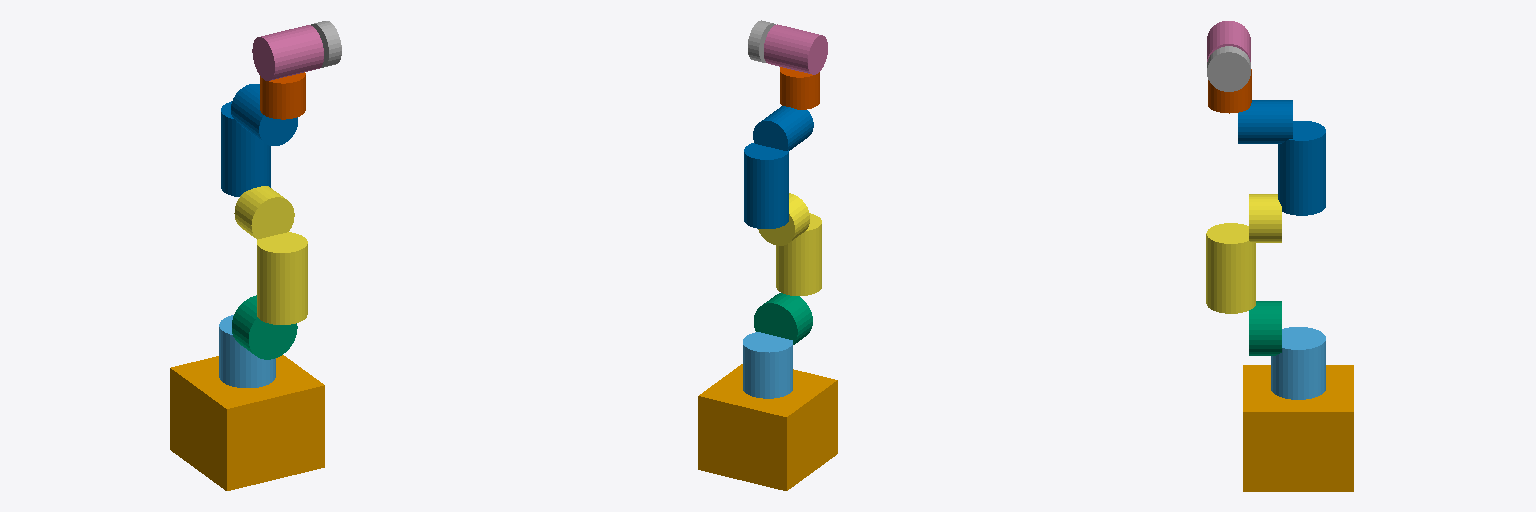
The robot description file, URDF, robot "[local-path]/webots_ros2/src/my_package/resource/MyCobot280Pi.ur":
<?xml version="1.0"?>
<robot name="[local-path]/webots_ros2/src/my_package/resource/MyCobot280Pi.urdf" xmlns:xacro="http://ros.org/wiki/xacro">
  <link name="base_link">
    <visual>
      <origin xyz="0 0 -0.01" rpy="0 0 0"/>
      <geometry>
        <box size="0.1 0.1 0.08"/>
      </geometry>
    </visual>
    <collision>
      <origin xyz="0 0 -0.01" rpy="0 0 0"/>
      <geometry>
        <box size="0.1 0.1 0.08"/>
      </geometry>
    </collision>
  </link>
  <link name="base">
    <visual>
      <origin xyz="0 0 0.105" rpy="0 0 0"/>
      <geometry>
        <cylinder radius="0.025" length="0.05"/>
      </geometry>
    </visual>
    <collision>
      <origin xyz="0 0 0.105" rpy="0 0 0"/>
      <geometry>
        <cylinder radius="0.025" length="0.05"/>
      </geometry>
    </collision>
  </link>
  <joint name="base_link_base_joint" type="fixed">
    <parent link="base_link"/>
    <child link="base"/>
    <origin xyz="0 0 -0.05" rpy="0 0 0"/>
  </joint>
  <joint name="joint0_rotational_motor" type="revolute">
    <parent link="base"/>
    <child link="joint0"/>
    <axis xyz="-0.000001 -0.000002 1"/>
    <limit effort="1000" lower="-2.93217" upper="2.93217" velocity="10"/>
    <origin xyz="0 0 0.08" rpy="-0.000002 0.000001 -1.570802"/>
  </joint>
  <link name="joint0">
    <visual>
      <origin xyz="0.030001 0 0.059979" rpy="3.141593 1.570793 3.141593"/>
      <geometry>
        <cylinder radius="0.025" length="0.03"/>
      </geometry>
    </visual>
    <collision>
      <origin xyz="0.030001 0 0.059979" rpy="3.141593 1.570793 3.141593"/>
      <geometry>
        <cylinder radius="0.025" length="0.03"/>
      </geometry>
    </collision>
  </link>
  <joint name="joint1_rotational_motor" type="revolute">
    <parent link="joint0"/>
    <child link="join1"/>
    <axis xyz="1 0 0"/>
    <limit effort="1000" lower="-2.35619" upper="2.35619" velocity="10"/>
    <origin xyz="0.03 0 0.059979" rpy="0 0 0"/>
  </joint>
  <link name="join1">
    <visual>
      <origin xyz="0.031 0 0.06" rpy="0 0 0"/>
      <geometry>
        <cylinder radius="0.0225" length="0.07"/>
      </geometry>
    </visual>
    <collision>
      <origin xyz="0.031 0 0.06" rpy="0 0 0"/>
      <geometry>
        <cylinder radius="0.0225" length="0.07"/>
      </geometry>
    </collision>
    <visual>
      <origin xyz="0 0 0.11" rpy="-1.570799 -0.000002 -1.570792"/>
      <geometry>
        <cylinder radius="0.022" length="0.03"/>
      </geometry>
    </visual>
    <collision>
      <origin xyz="0 0 0.11" rpy="-1.570799 -0.000002 -1.570792"/>
      <geometry>
        <cylinder radius="0.022" length="0.03"/>
      </geometry>
    </collision>
  </link>
  <joint name="joint2_rotational_motor" type="revolute">
    <parent link="join1"/>
    <child link="joint2"/>
    <axis xyz="1 0 0"/>
    <limit effort="1000" lower="-2.61799" upper="2.61799" velocity="10"/>
    <origin xyz="0 0 0.1104" rpy="0 0 0"/>
  </joint>
  <link name="joint2">
    <visual>
      <origin xyz="-0.033 0 0.05" rpy="0 0 0.2618"/>
      <geometry>
        <cylinder radius="0.022" length="0.075"/>
      </geometry>
    </visual>
    <collision>
      <origin xyz="-0.033 0 0.05" rpy="0 0 0.2618"/>
      <geometry>
        <cylinder radius="0.022" length="0.075"/>
      </geometry>
    </collision>
    <visual>
      <origin xyz="0 0 0.096" rpy="0 -1.570795 0"/>
      <geometry>
        <cylinder radius="0.02" length="0.05"/>
      </geometry>
    </visual>
    <collision>
      <origin xyz="0 0 0.096" rpy="0 -1.570795 0"/>
      <geometry>
        <cylinder radius="0.02" length="0.05"/>
      </geometry>
    </collision>
  </link>
  <joint name="joint3_rotational_motor" type="revolute">
    <parent link="joint2"/>
    <child link="joint3"/>
    <axis xyz="1 0.000021 -0.000006"/>
    <limit effort="1000" lower="-2.53073" upper="2.53073" velocity="10"/>
    <origin xyz="-0.0005 0 0.0966" rpy="0 -0.000006 -0.000021"/>
  </joint>
  <link name="joint3">
    <visual>
      <origin xyz="0.033001 -0.000019 0.034934" rpy="0 0 0"/>
      <geometry>
        <cylinder radius="0.02" length="0.035"/>
      </geometry>
    </visual>
    <collision>
      <origin xyz="0.033001 -0.000019 0.034934" rpy="0 0 0"/>
      <geometry>
        <cylinder radius="0.02" length="0.035"/>
      </geometry>
    </collision>
  </link>
  <joint name="joint4_rotational_motor" type="revolute">
    <parent link="joint3"/>
    <child link="joint4"/>
    <axis xyz="0 0 1"/>
    <limit effort="1000" lower="-2.87979" upper="2.87979" velocity="10"/>
    <origin xyz="0.033701 -0.000019 0.033934" rpy="0 0 0"/>
  </joint>
  <link name="joint4">
    <visual>
      <origin xyz="0 0.005 0.038" rpy="-1.570795 0 0"/>
      <geometry>
        <cylinder radius="0.02" length="0.05"/>
      </geometry>
    </visual>
    <collision>
      <origin xyz="0 0.005 0.038" rpy="-1.570795 0 0"/>
      <geometry>
        <cylinder radius="0.02" length="0.05"/>
      </geometry>
    </collision>
  </link>
  <joint name="joint5_rotational_motor" type="revolute">
    <parent link="joint4"/>
    <child link="joint5"/>
    <axis xyz="0 0.000001 1"/>
    <limit effort="1000" lower="-3.14159" upper="3.14159" velocity="10"/>
    <origin xyz="-0.0001 0.0346 0.038" rpy="-1.570795 0 0"/>
  </joint>
  <link name="joint5">
    <visual>
      <origin xyz="0 0 0.007" rpy="0 0 0"/>
      <geometry>
        <cylinder radius="0.02" length="0.013"/>
      </geometry>
    </visual>
    <collision>
      <origin xyz="0 0 0.007" rpy="0 0 0"/>
      <geometry>
        <cylinder radius="0.02" length="0.013"/>
      </geometry>
    </collision>
  </link>
</robot>

--- Facts derived from the render (not from the file) ---
The picture shows the robot from 3 angles, left to right: view 1: azimuth 30°, elevation 25°; view 2: azimuth 150°, elevation 25°; view 3: azimuth 270°, elevation 25°; orthographic projection.
Robot: [local-path]/webots_ros2/src/my_package/resource/MyCobot280Pi.ur — 8 links, 7 joints (6 revolute, 1 fixed); root link base_link; default pose: all joints at 0.
Links seen in each view (by area): view 1: base_link, join1, joint2, joint4, base, joint0, joint3, joint5; view 2: base_link, joint2, join1, base, joint4, joint0, joint3, joint5; view 3: base_link, joint2, join1, base, joint0, joint5, joint4, joint3.
Link boxes in pixels (left/top/right/bottom): base_link: left=170, top=355, right=324, bottom=490; join1: left=234, top=186, right=307, bottom=324; joint2: left=221, top=84, right=297, bottom=196; joint4: left=252, top=25, right=323, bottom=80; base: left=219, top=315, right=275, bottom=387; joint0: left=232, top=295, right=297, bottom=359; joint3: left=260, top=72, right=305, bottom=119; joint5: left=311, top=21, right=341, bottom=67; base_link: left=698, top=364, right=837, bottom=490; joint2: left=744, top=106, right=813, bottom=228; join1: left=758, top=193, right=821, bottom=295; base: left=743, top=332, right=792, bottom=398; joint4: left=764, top=24, right=827, bottom=74; joint0: left=754, top=293, right=812, bottom=344; joint3: left=780, top=67, right=819, bottom=109; joint5: left=748, top=20, right=775, bottom=62; base_link: left=1243, top=365, right=1353, bottom=491; joint2: left=1238, top=100, right=1325, bottom=215; join1: left=1206, top=194, right=1281, bottom=313; base: left=1271, top=327, right=1325, bottom=399; joint0: left=1249, top=301, right=1281, bottom=355; joint5: left=1207, top=46, right=1250, bottom=91; joint4: left=1207, top=21, right=1250, bottom=61; joint3: left=1208, top=69, right=1251, bottom=113.
Size in the robot's own frame: 0.1 by 0.1335 by 0.4389 metres.
Geometry: primitives only (box / cylinder / sphere), no mesh files.
